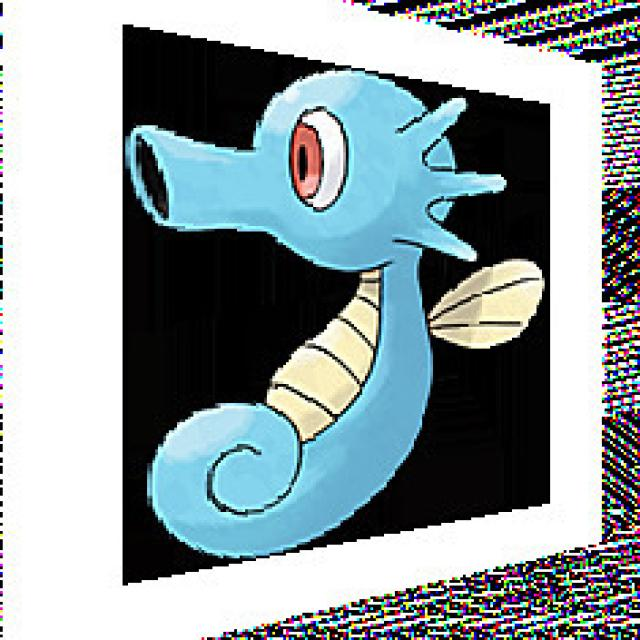Horsea: (117, 55, 551, 564)
